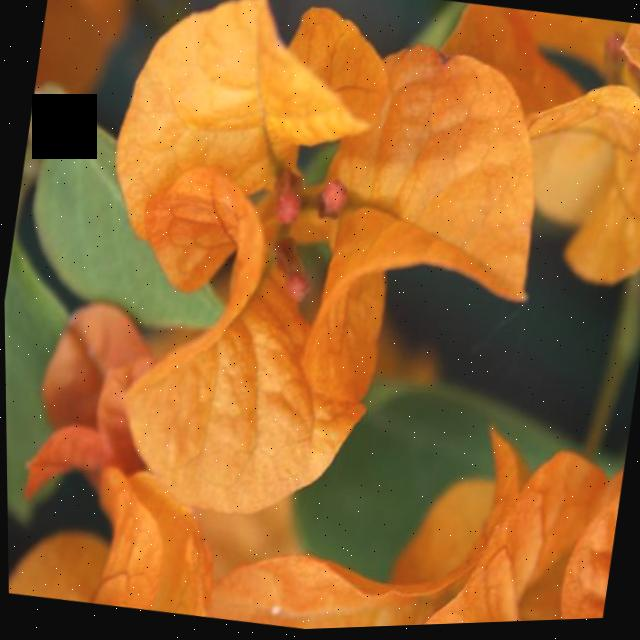bougainvillea: (0, 0, 595, 640)
